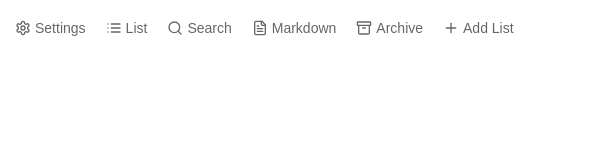
Test: Board — view switcher dropdown › shows correct active state for current view
Click the button with aria-label "Switch view": (126, 28) [98, 16, 155, 40]
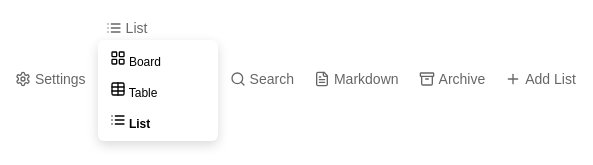
Check: the 2nd button "List" is shown, box [98, 106, 218, 137]
